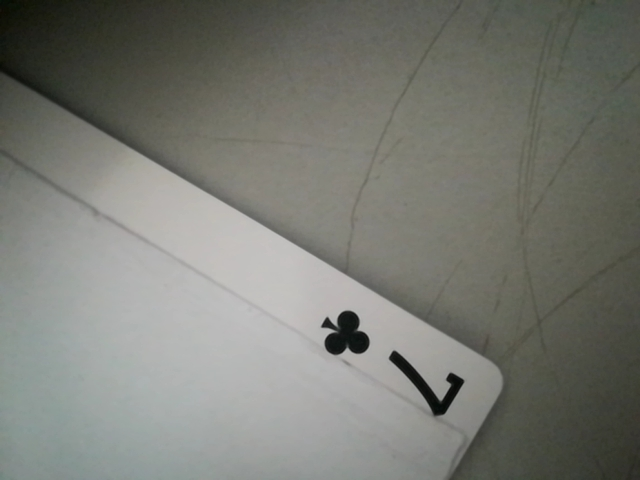mh 7: (303, 303, 479, 425)
